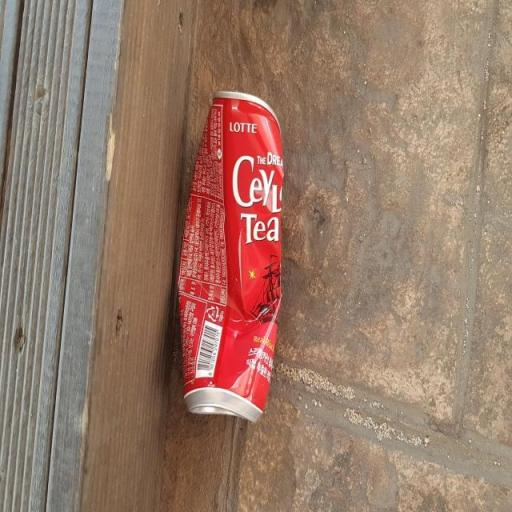metal: (158, 77, 301, 471)
